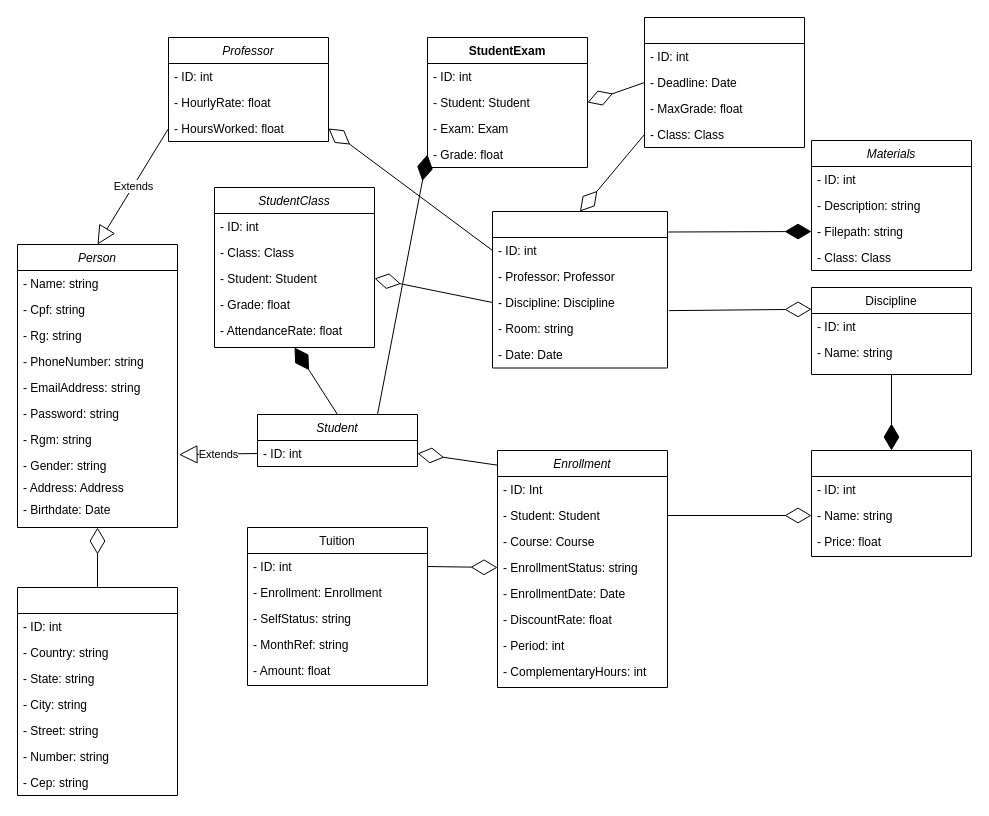
Image size: 989x816. Some labels were removed from this diagram. Each missing label, with the box of its shape:
Address: (16, 586, 178, 796)
Class: (492, 210, 668, 368)
Course: (810, 450, 972, 556)
Exam: (644, 16, 804, 148)
